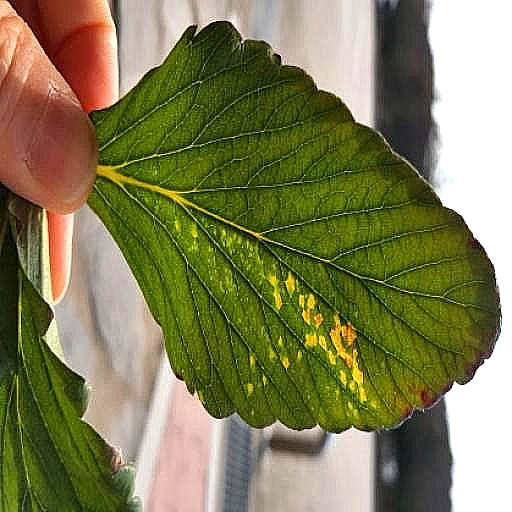Angular Leafspot: (133, 92, 353, 303)
